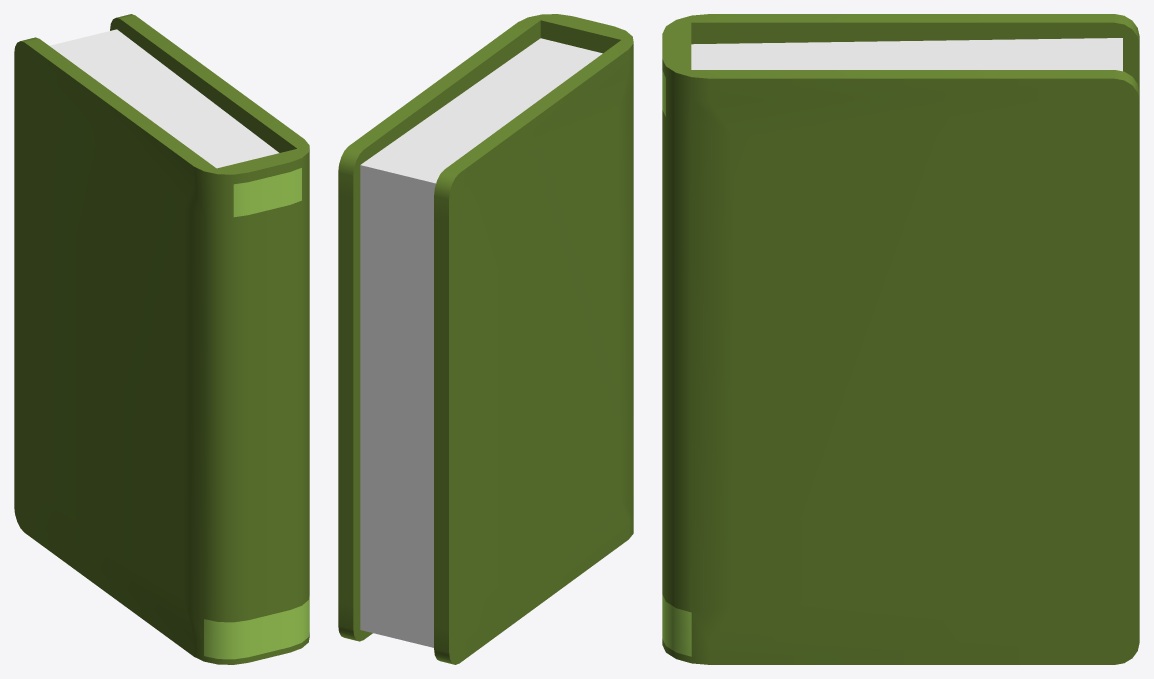
The model's file is Books_05.glb.
The picture shows the model from 3 angles, left to right: view 1: azimuth 30°, elevation 25°; view 2: azimuth 150°, elevation 25°; view 3: azimuth 270°, elevation 25°; orthographic projection. The views are drawn at different scales.
Parts seen in each view (by area): view 1: book_02; view 2: book_02; view 3: book_02.
Boxes of the visible parts, left/top/right/bottom form: book_02: left=14, top=14, right=309, bottom=664; book_02: left=338, top=14, right=633, bottom=664; book_02: left=662, top=14, right=1139, bottom=664.
Bounding box in the file's own units: 0.0537 × 0.2267 × 0.1673.
3 materials, 1 textured.
